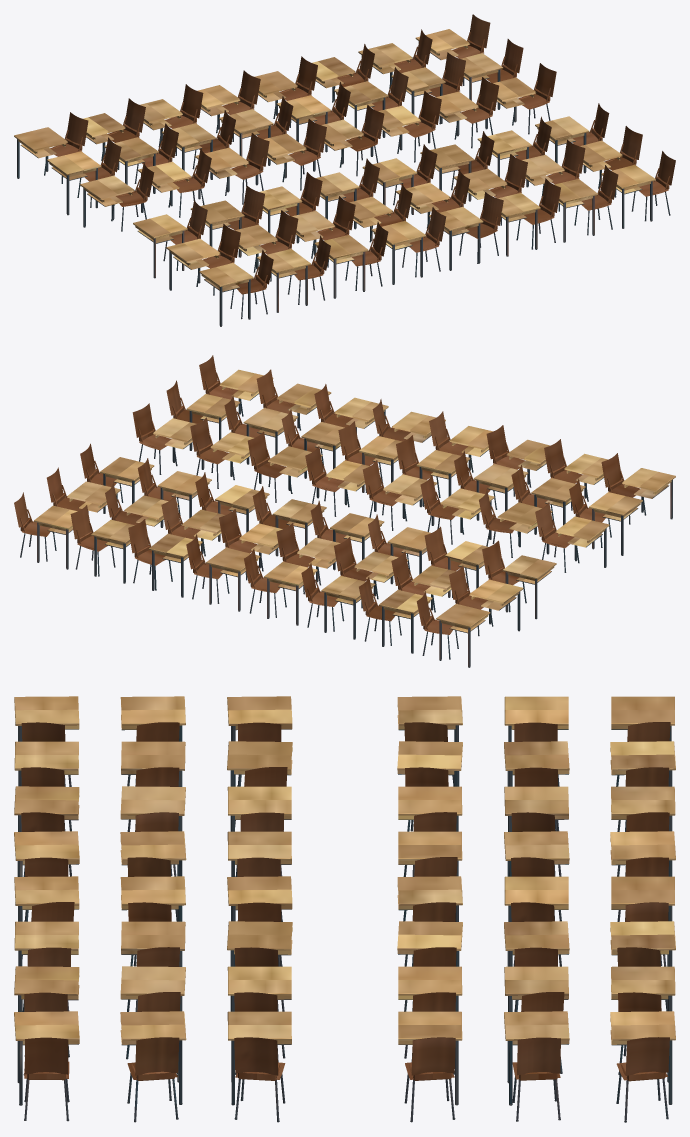
The model's file is cl-desks.glb.
3 views of the same model, one above another, from view 1: azimuth 30°, elevation 25°; view 2: azimuth 150°, elevation 25°; view 3: azimuth 270°, elevation 25° (orthographic). The views are drawn at different scales.
Visible parts, largest first — view 1: desk_r1_c1, desk_r1_c5, desk_r1_c4, desk_r1_c6, desk_r1_c2, desk_r1_c3, desk_r3_c1, chair_r4_c4, desk_r4_c1, desk_r5_c1, desk_r2_c1, chair_r3_c4 (+84 smaller); view 2: desk_r1_c6, desk_r1_c5, desk_r1_c3, desk_r1_c4, desk_r1_c1, desk_r1_c2, desk_r2_c6, desk_r4_c6, desk_r5_c6, desk_r3_c6, desk_r6_c6, desk_r8_c6 (+84 smaller); view 3: chair_r8_c6, chair_r8_c3, chair_r8_c2, chair_r8_c4, chair_r8_c5, desk_r8_c5, desk_r8_c1, desk_r8_c6, desk_r8_c2, chair_r8_c1, desk_r8_c3, desk_r8_c4 (+84 smaller).
Part boxes in pixels (x1,y1,x2,y2): desk_r1_c1: (199, 263, 253, 326); desk_r1_c5: (47, 151, 101, 215); desk_r1_c4: (80, 175, 134, 227); desk_r1_c6: (14, 127, 68, 178); desk_r1_c2: (166, 238, 220, 290); desk_r1_c3: (133, 214, 187, 278); desk_r3_c1: (314, 235, 368, 298); chair_r4_c4: (282, 119, 326, 190); desk_r4_c1: (371, 221, 425, 284); desk_r5_c1: (429, 207, 483, 270); desk_r2_c1: (257, 249, 310, 312); chair_r3_c4: (225, 133, 269, 204); desk_r1_c6: (436, 603, 490, 667); desk_r1_c5: (469, 579, 523, 631); desk_r1_c3: (555, 516, 609, 567); desk_r1_c4: (502, 555, 556, 619); desk_r1_c1: (622, 468, 675, 519); desk_r1_c2: (589, 492, 642, 555); desk_r2_c6: (379, 590, 432, 653); desk_r4_c6: (264, 562, 317, 625); desk_r5_c6: (206, 547, 260, 611); desk_r3_c6: (321, 576, 375, 639); desk_r6_c6: (149, 533, 202, 597); desk_r8_c6: (34, 505, 77, 569); chair_r8_c6: (616, 1037, 669, 1122); chair_r8_c3: (234, 1037, 285, 1122); chair_r8_c2: (127, 1037, 179, 1122); chair_r8_c4: (404, 1037, 455, 1122); chair_r8_c5: (512, 1037, 560, 1121); desk_r8_c5: (504, 1011, 569, 1105); desk_r8_c1: (14, 1011, 79, 1105); desk_r8_c6: (610, 1011, 675, 1104); desk_r8_c2: (120, 1011, 186, 1104); chair_r8_c1: (24, 1037, 69, 1121); desk_r8_c3: (227, 1011, 291, 1105); desk_r8_c4: (398, 1011, 462, 1105).
Size of the model in its own units: 8.05 by 0.8914 by 6.22.
3 materials, 3 textured.
